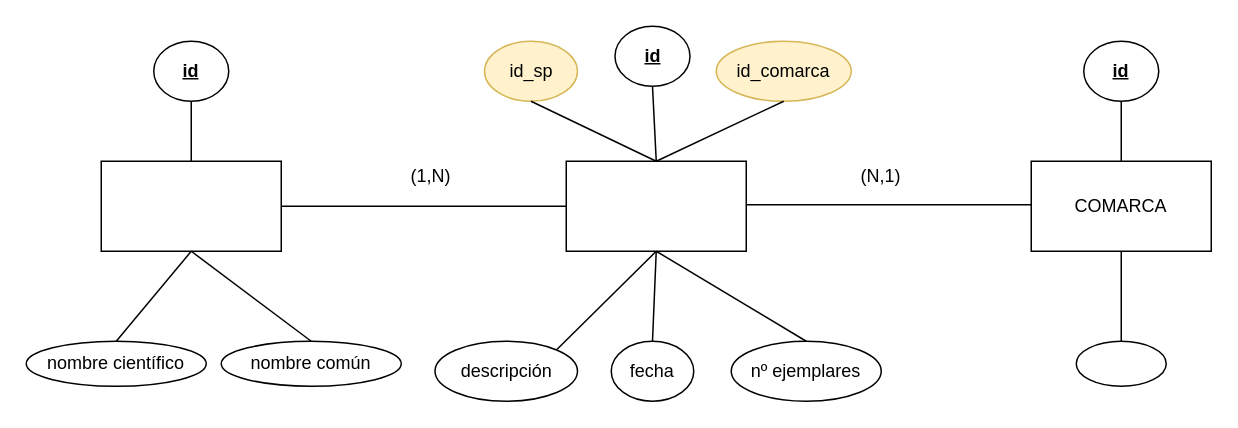
The diagram is 1238 pixels wide and 428 high, and some of its shapes have lost their labels. Each missing label, with the centre of its shape:
"AVE" belongs at [190,205].
"AVISTAMIENTO" belongs at [655,205].
"nombre" belongs at [1120,363].
